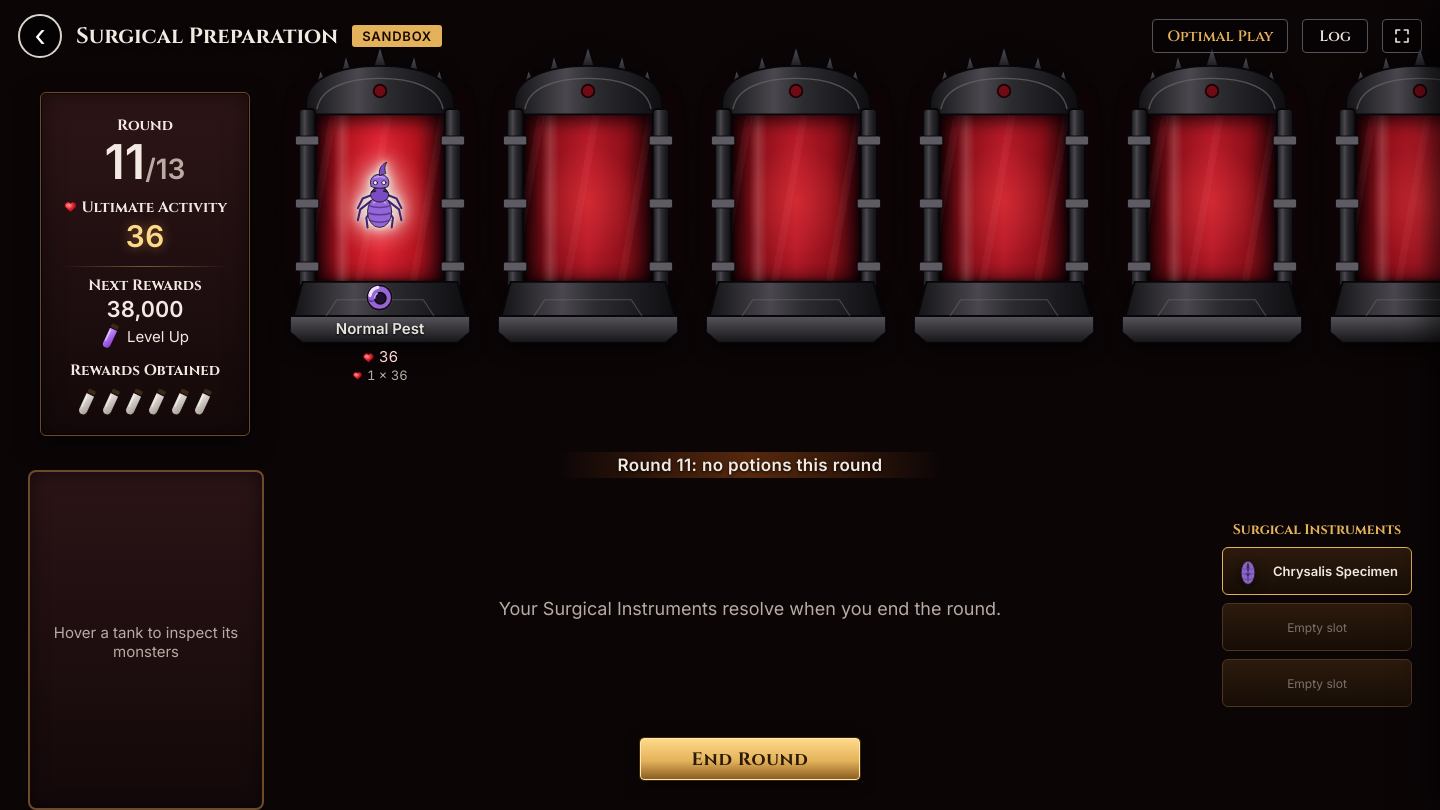
rounds 11–13 show an End Round button that steps through to the end
The image size is (1440, 810).
Expected: the text "Round 11: no potions this round" is shown, [618, 455, 882, 475]
Click the button "End Round" at {"x": 750, "y": 759}, box [640, 738, 860, 780]
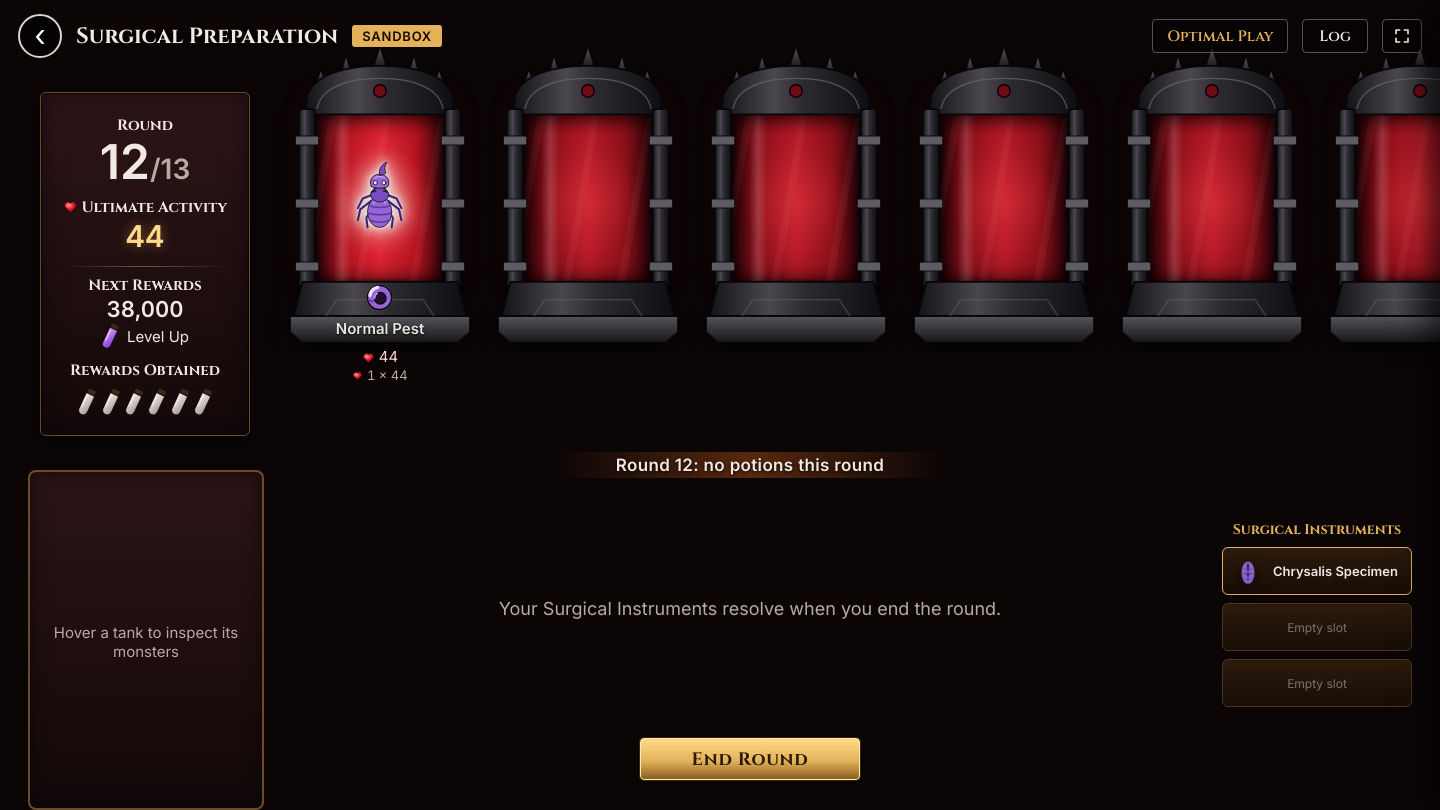
Expected: the element with test id "round" reads "12/13", [100, 132, 190, 191]
